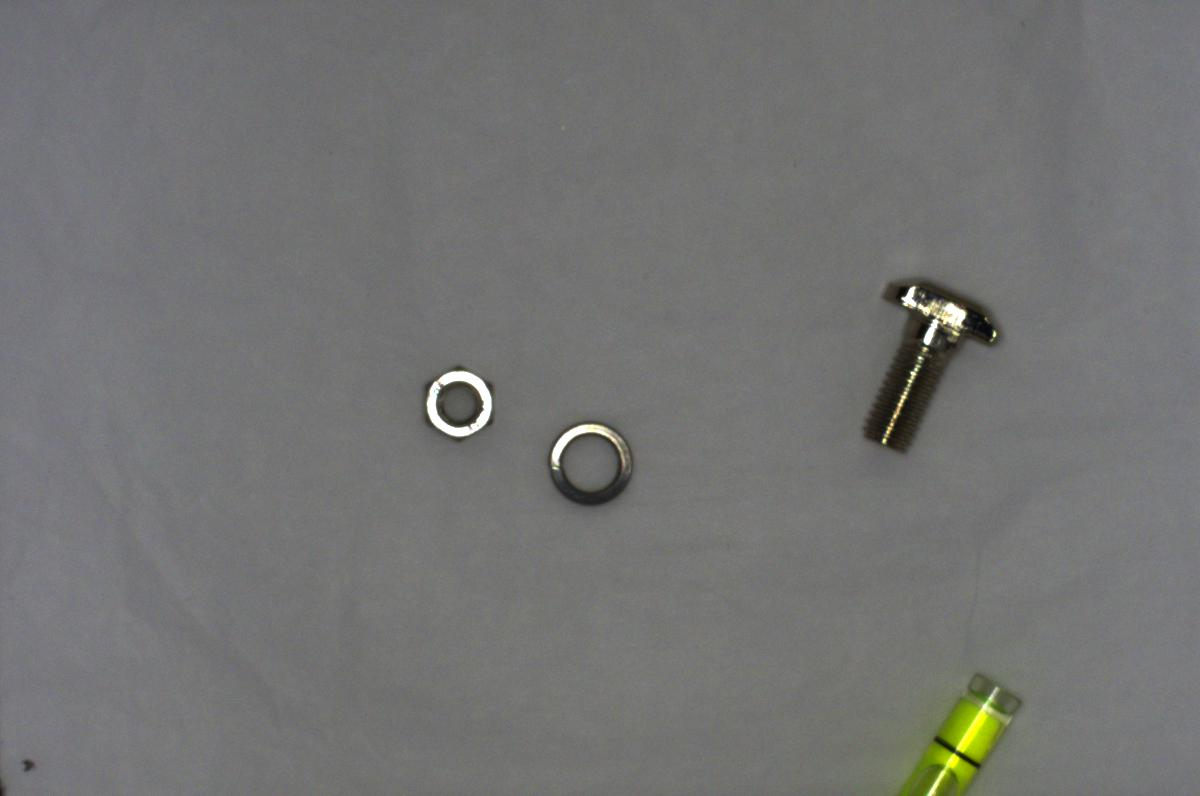Hexagon nut: (408, 355, 499, 448)
Horizontal bubble: (893, 662, 1032, 795)
Spring washer: (533, 413, 637, 501)
T-shaped screw: (859, 267, 1017, 452)
